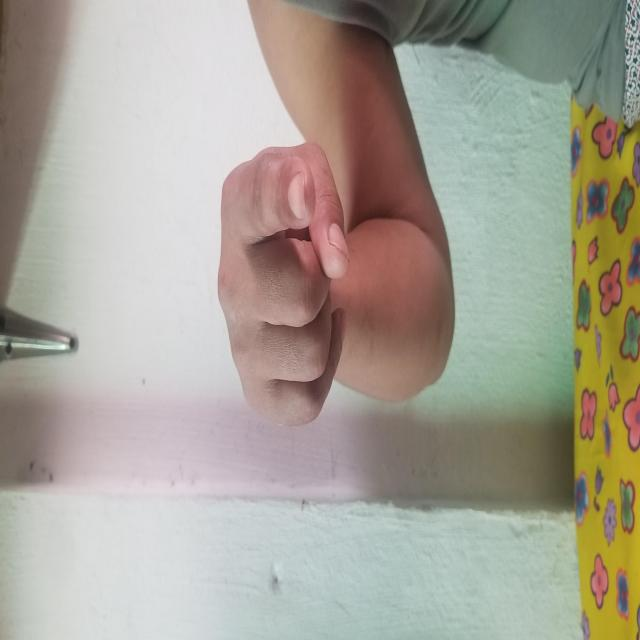Z: (207, 130, 371, 457)
